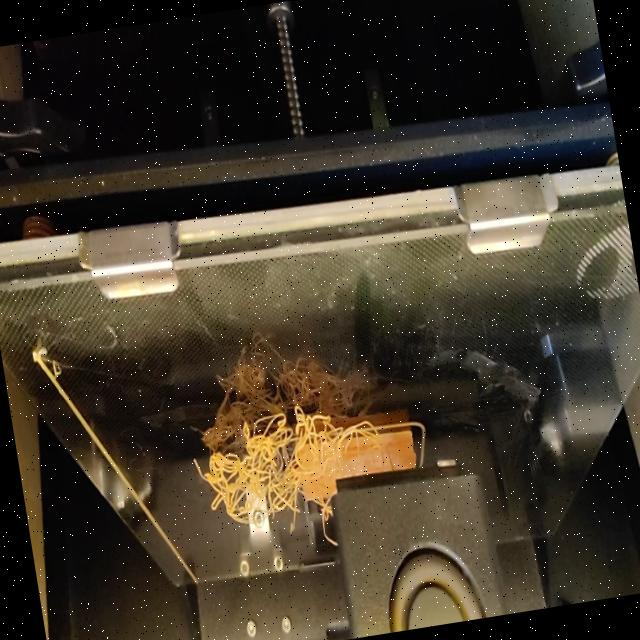spaghetti: (188, 386, 338, 564), (318, 408, 349, 497), (337, 414, 380, 477)
